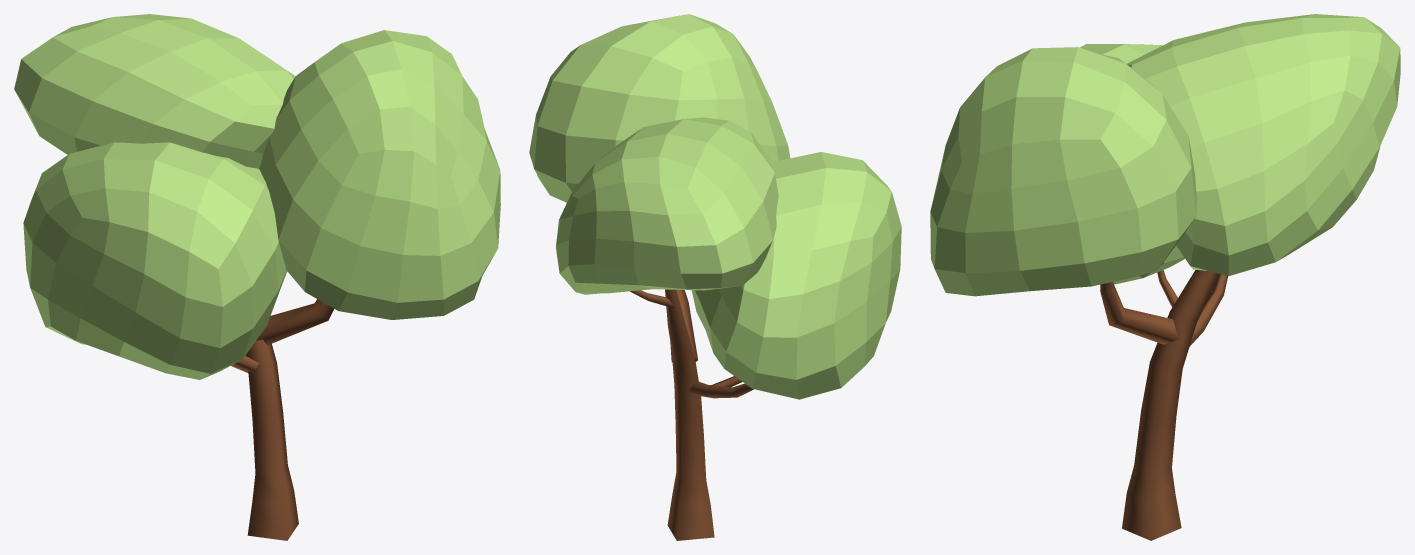
Rendered from Trunk.fbx.
3 renders of one model, left to right at view 1: azimuth 30°, elevation 25°; view 2: azimuth 150°, elevation 25°; view 3: azimuth 270°, elevation 25°, orthographic. The views are drawn at different scales.
Visible parts, largest first — view 1: Bush 3, Bush 1, Bush 2, Trunk; view 2: Bush 1, Bush 2, Bush 3, Trunk; view 3: Bush 3, Bush 2, Trunk, Bush 1.
Boxes of the visible parts, box(x1,y1,x2,y2) form: Bush 3: box(259, 30, 500, 319); Bush 1: box(23, 142, 287, 379); Bush 2: box(14, 14, 295, 168); Trunk: box(231, 299, 333, 540); Bush 1: box(691, 152, 901, 399); Bush 2: box(556, 117, 778, 294); Bush 3: box(529, 14, 790, 202); Trunk: box(630, 289, 753, 540); Bush 3: box(930, 47, 1196, 296); Bush 2: box(1127, 14, 1400, 276); Trunk: box(1100, 270, 1227, 540); Bush 1: box(1080, 44, 1184, 284).
Size of the model in its own units: 4.32 by 5.32 by 4.47.
